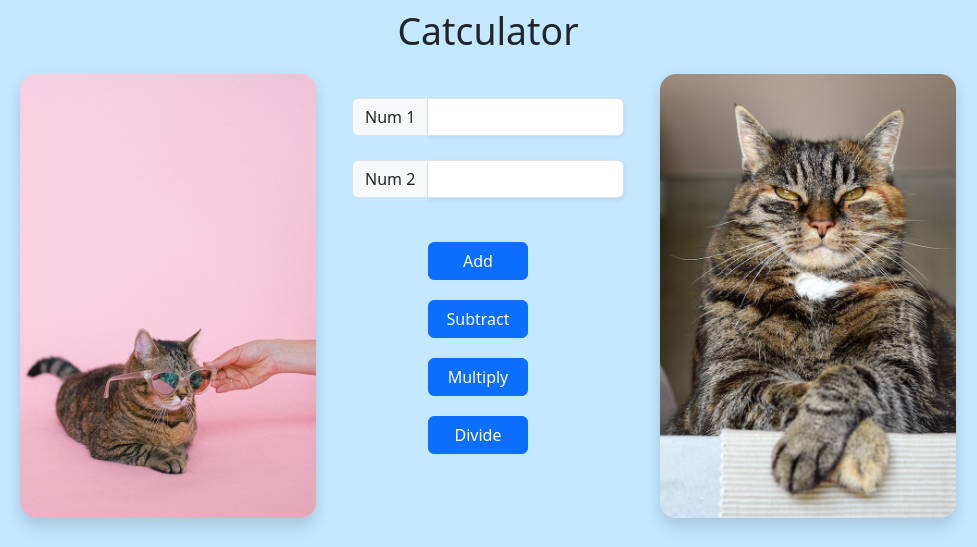
Test case: catculator app › should display result
Type "10" into the number field with id "num1" at x=526, y=117, box [427,98,624,136]
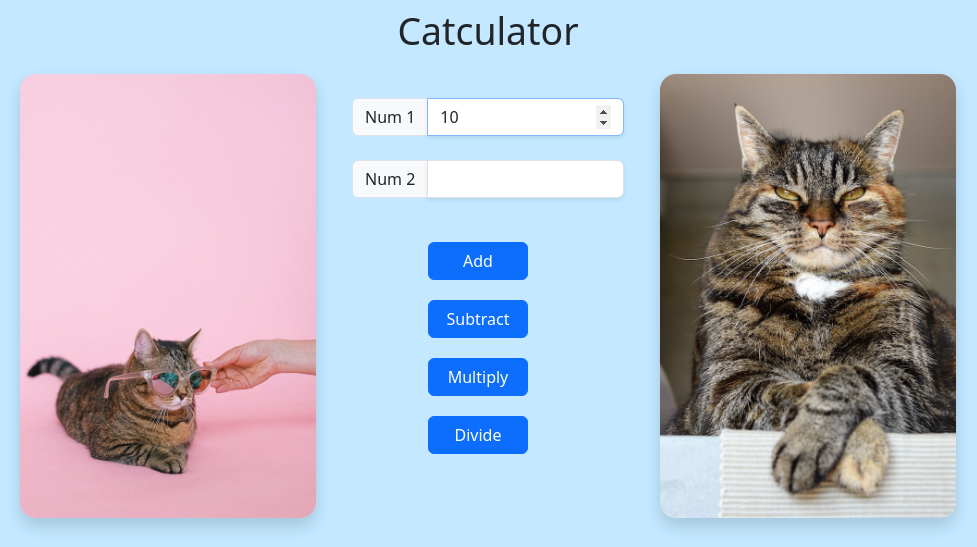
Type "13" into the number field with id "num2" at x=526, y=179, box [427,160,624,198]
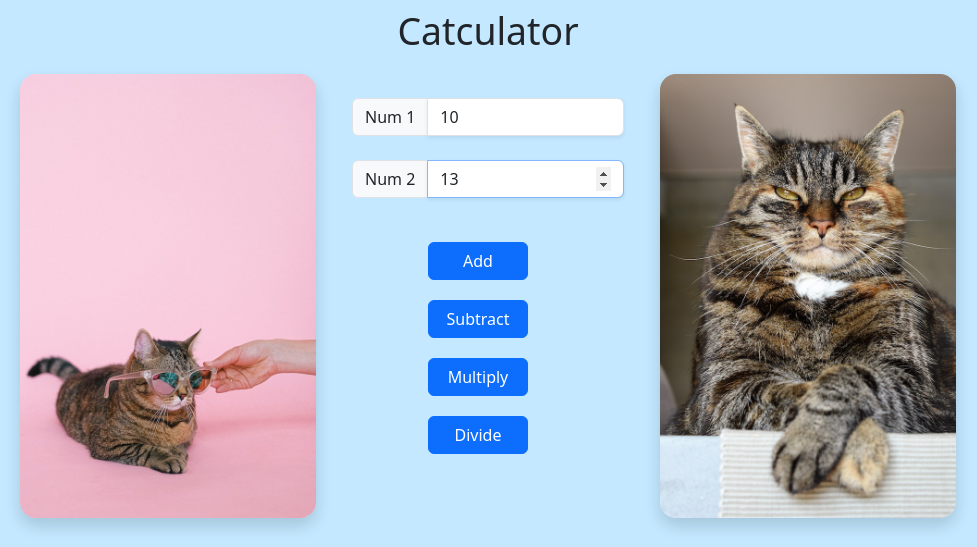
Click the button with id "add" at x=478, y=261, box [428,242,528,280]
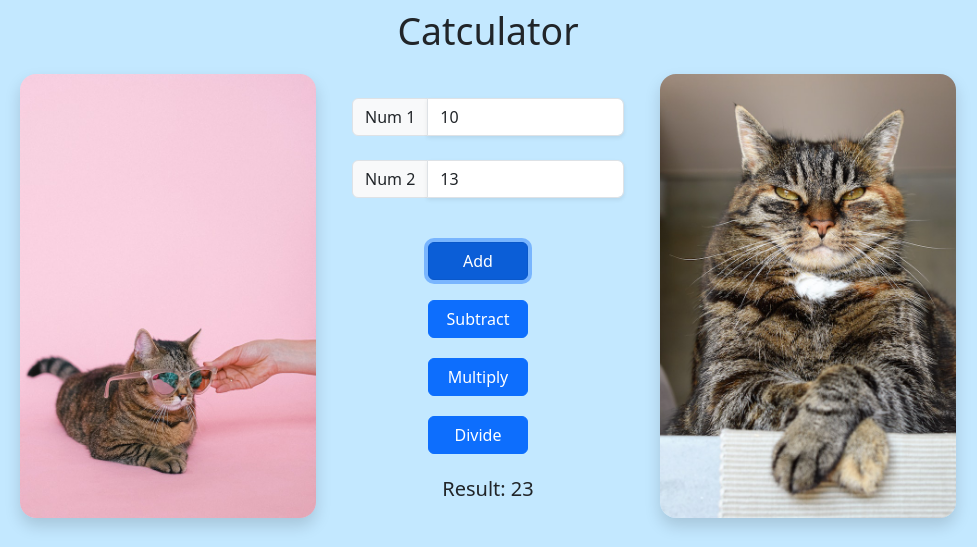
Expected: the text with class "result" reads "Result: 23", [442,475,534,502]
